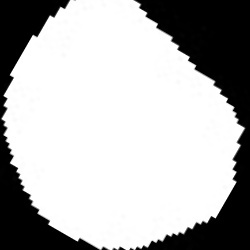pinhole: (1, 0, 244, 249)
spot: (1, 1, 246, 248)
